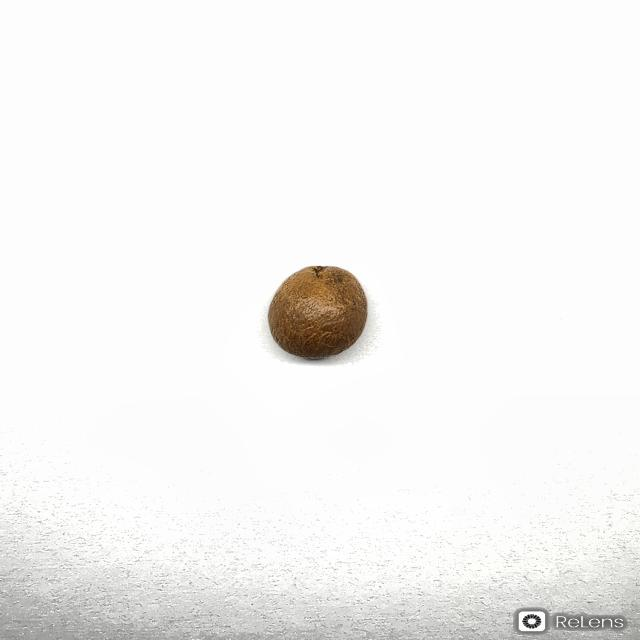Good bean: (266, 264, 368, 359)
